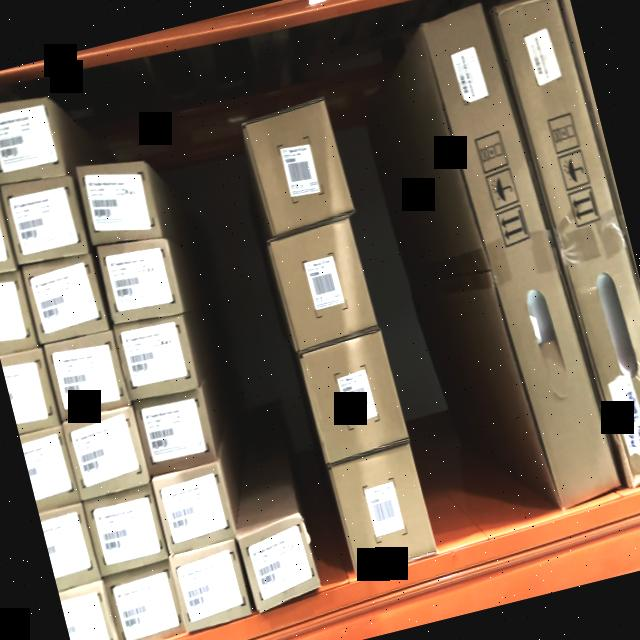box: (420, 3, 619, 510), (298, 332, 408, 459), (269, 219, 376, 348), (248, 111, 354, 228), (334, 452, 436, 570), (22, 252, 106, 340), (64, 409, 147, 498), (2, 177, 86, 264), (82, 488, 166, 574), (100, 236, 180, 326), (46, 332, 128, 419), (116, 314, 198, 400), (81, 157, 157, 245), (154, 468, 233, 552), (239, 523, 318, 605), (136, 392, 214, 472), (0, 91, 64, 187), (172, 548, 250, 626), (108, 568, 183, 640)
